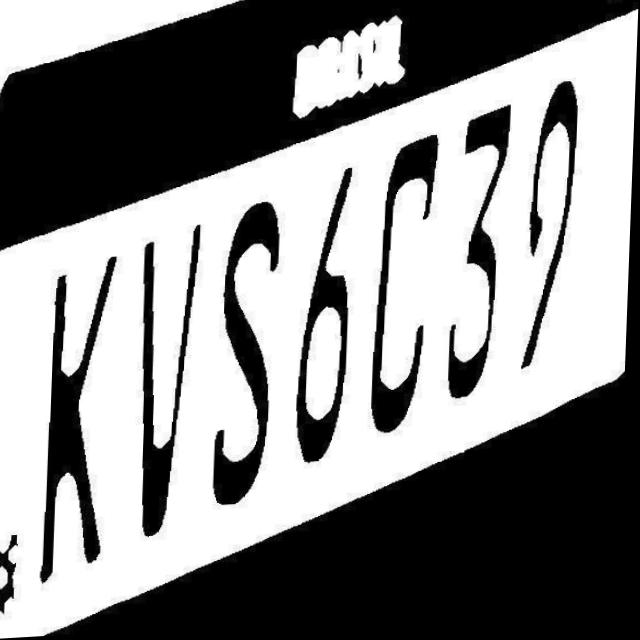3: (448, 104, 521, 407)
6: (284, 172, 365, 478)
9: (518, 92, 606, 392)
c: (362, 142, 455, 455)
k: (37, 264, 125, 576)
s: (202, 213, 286, 515)
v: (126, 234, 207, 545)
